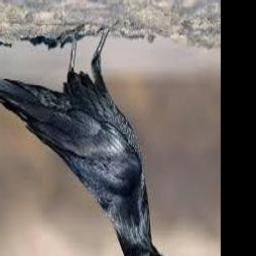Crow: (0, 29, 176, 256)
